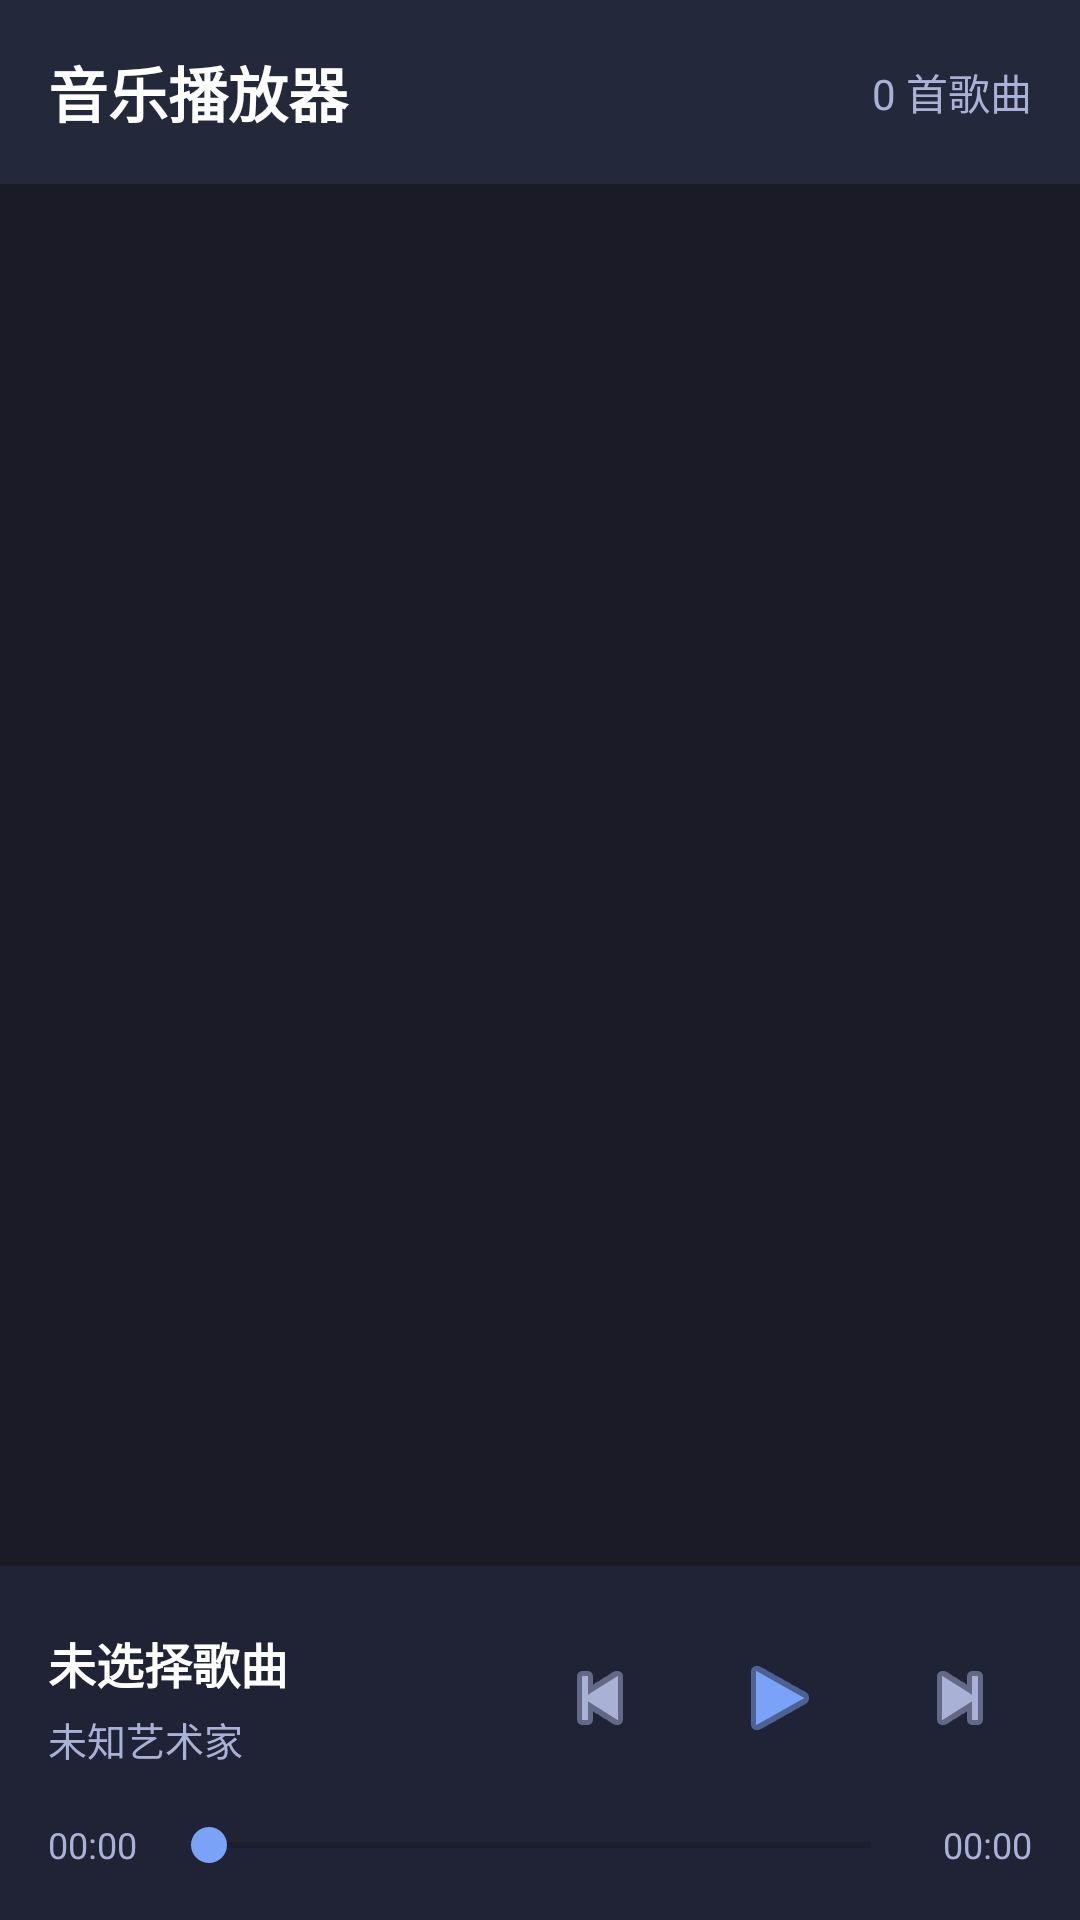

Where icons sit on this 1080 × 1920 app screen, as (x1, y1, x2, y2):
上一曲: (577, 1671, 623, 1725)
下一曲: (937, 1671, 983, 1725)
播放/暂停: (751, 1666, 809, 1730)
